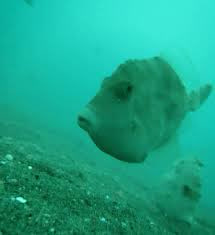kawahagi: (67, 37, 203, 173)
